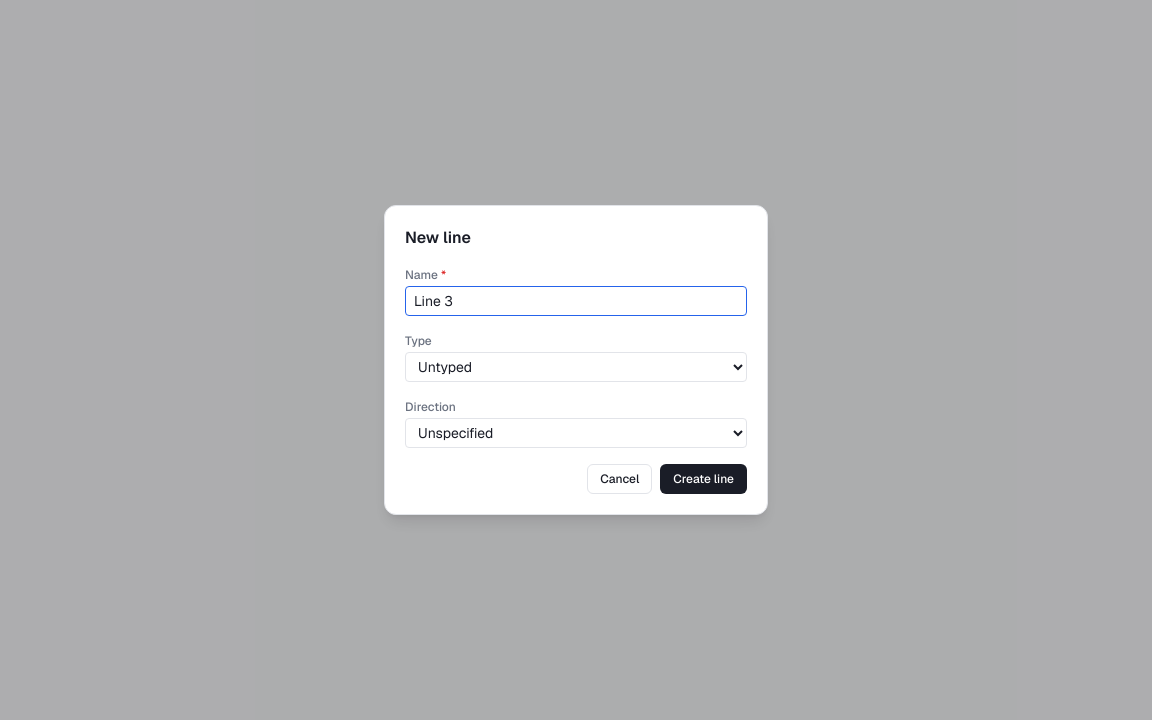
Scenario: LineModal › requires a name before creating
Clear the field labelled "Name" at (576, 301), box [405, 286, 747, 316]
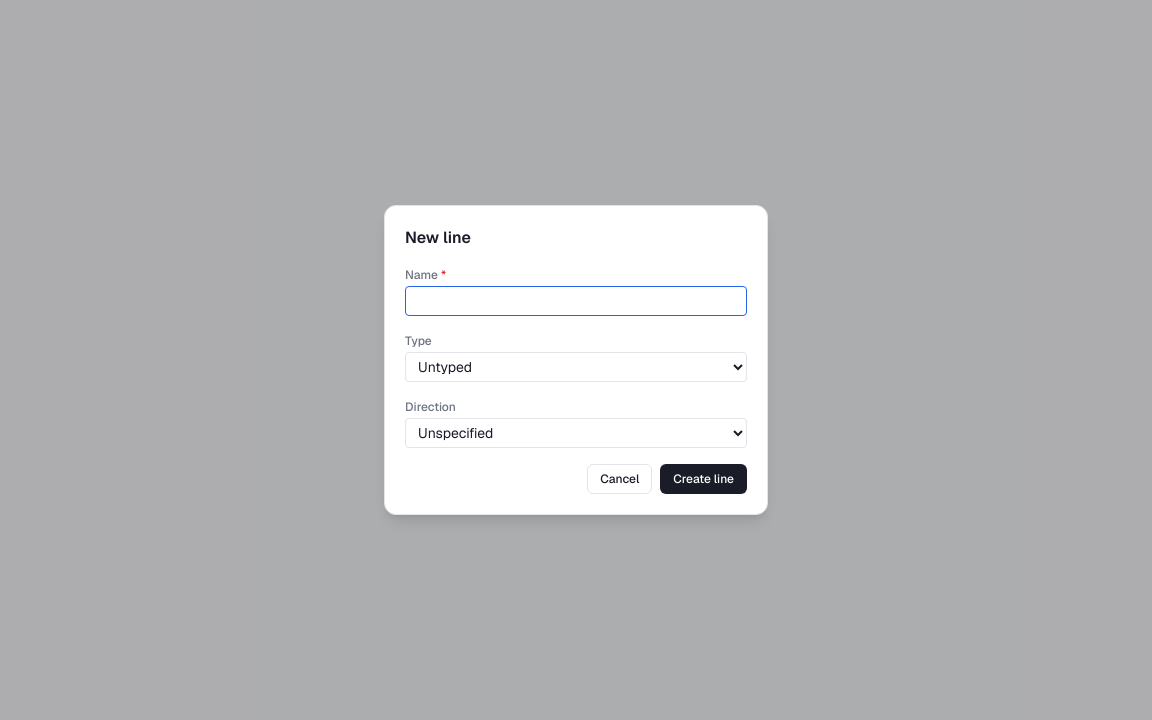
Click the button "Create line" at (704, 479), box [660, 464, 747, 494]
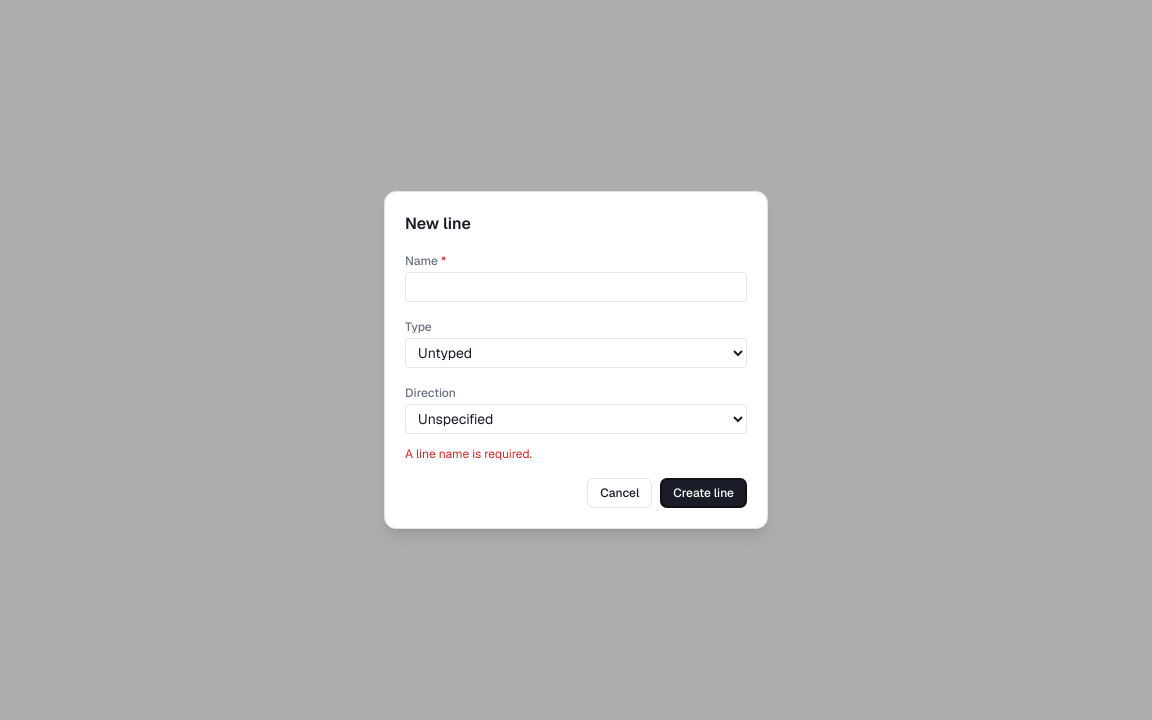
Expected: the message "A line name is required." is shown, [405, 446, 532, 462]
